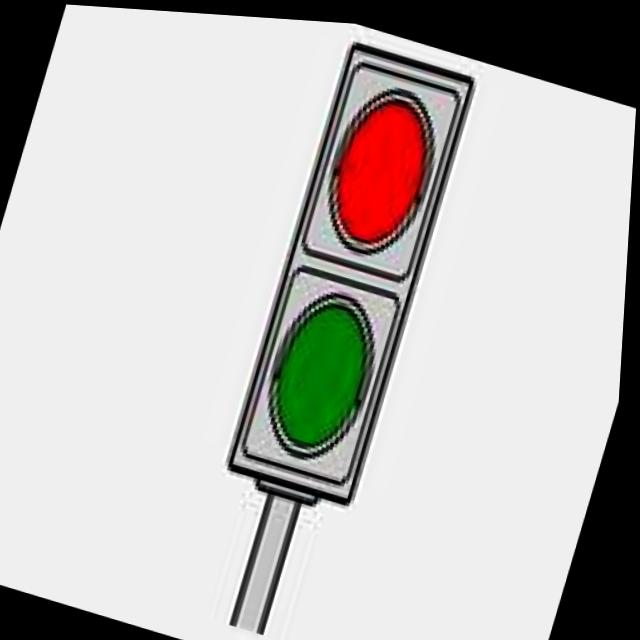green_light: (195, 260, 410, 519)
red_light: (248, 14, 491, 310)
